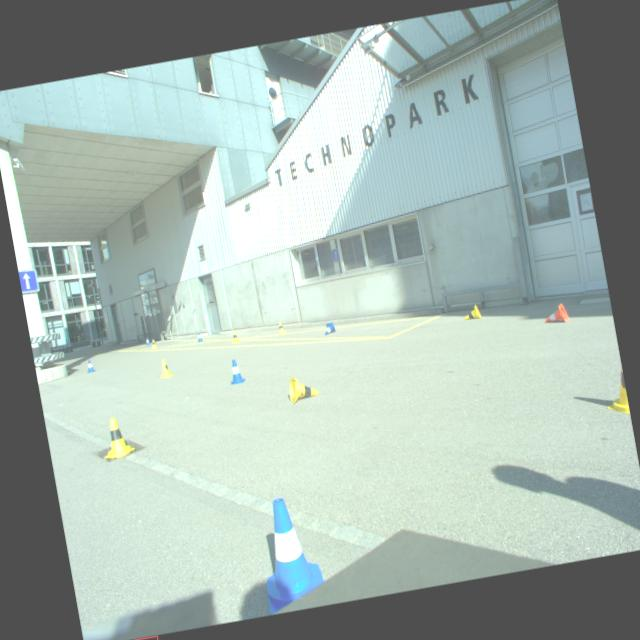blue_cone: (250, 492, 328, 614), (226, 358, 247, 384), (323, 322, 336, 334), (85, 358, 96, 372), (196, 332, 203, 342), (144, 337, 150, 345)
orange_cone: (543, 302, 570, 325)
yellow_cone: (98, 415, 136, 459), (286, 372, 320, 404), (156, 357, 174, 378), (462, 304, 482, 320), (230, 329, 240, 344), (276, 321, 285, 334), (150, 338, 158, 348)
